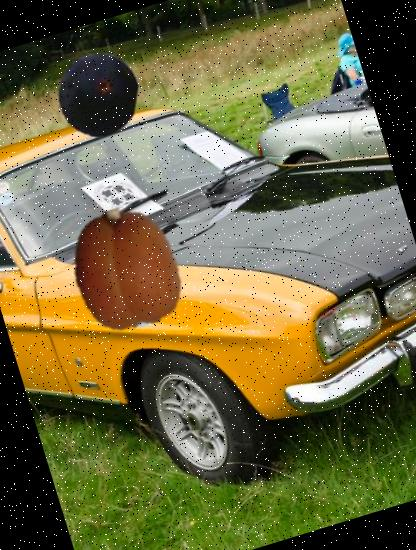Apricot: (50, 193, 200, 344)
Grape: (46, 42, 152, 148)
